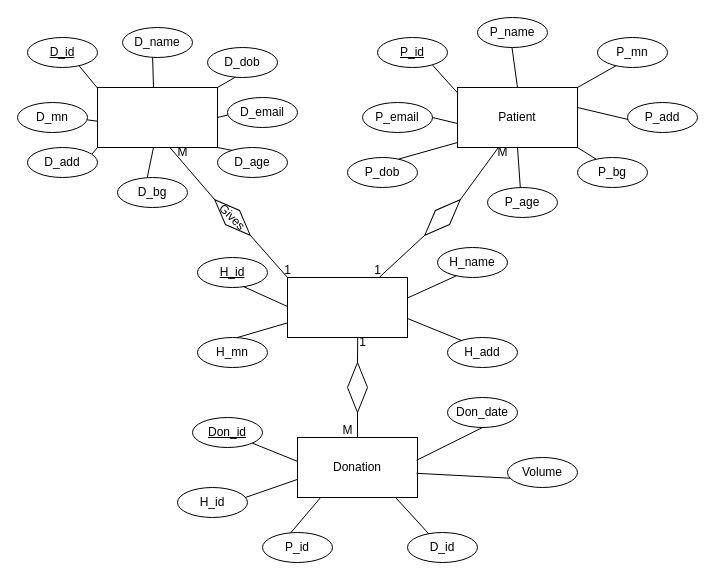
Some shapes in this 715 by 580 pixel diagram are drawn without their labels. Here are the shapes that lost their labels. From the top down, the box of each, then its label:
(96, 86, 218, 148): Donor
(416, 192, 467, 242): Take
(286, 276, 408, 338): Hospital\Center
(346, 362, 368, 412): Maintain
